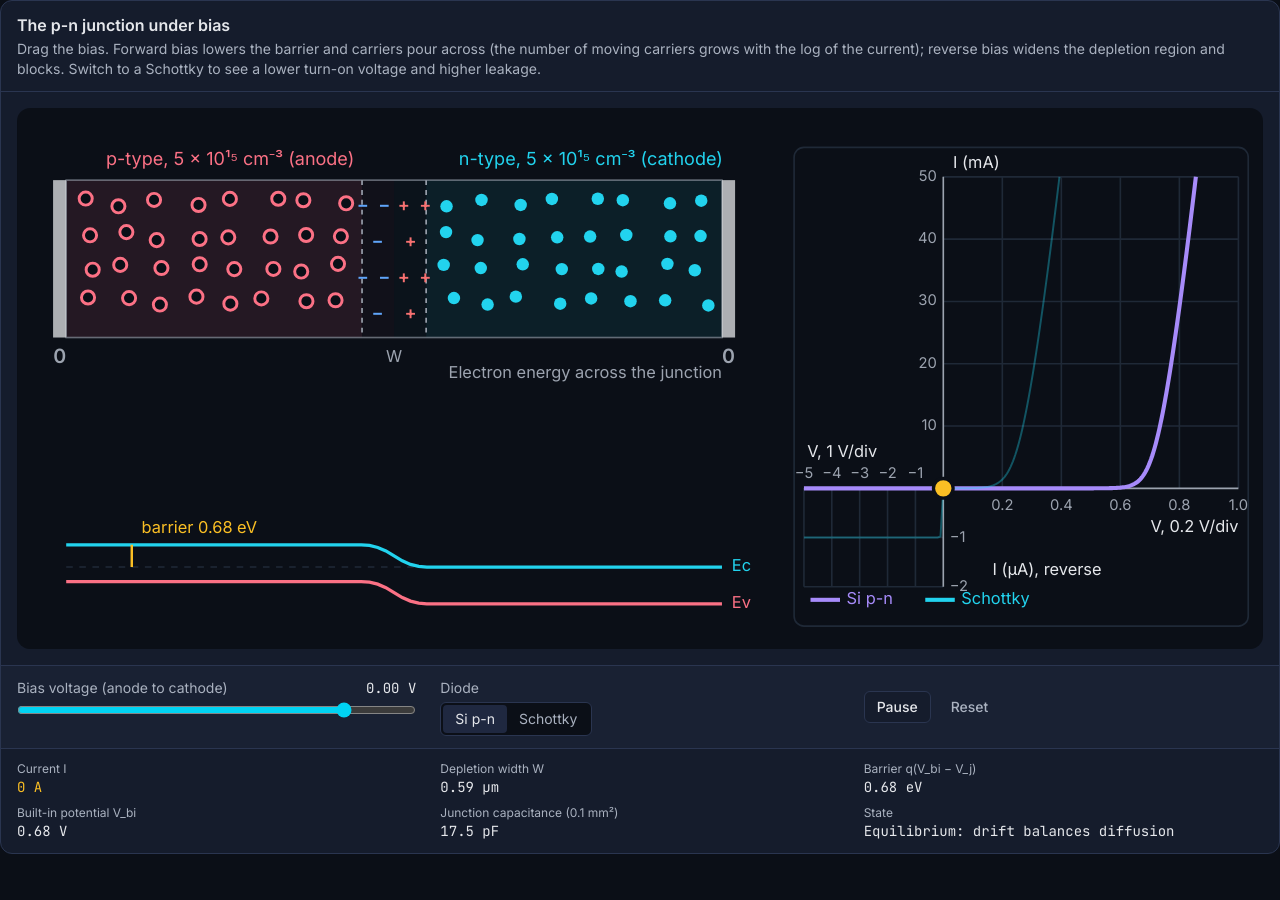
it: PNJunction › updates current, depletion width and state with bias and diode type
Check: the text "0 A" is shown, box 17,778 -> 42,796
Check: the text "0.59 µm" is shown, box 440,778 -> 499,796
Set the slider labelled "Bias voltage (anode to cathode) 0.00 V" to "-5" at (25, 710), box 17,702 -> 416,718
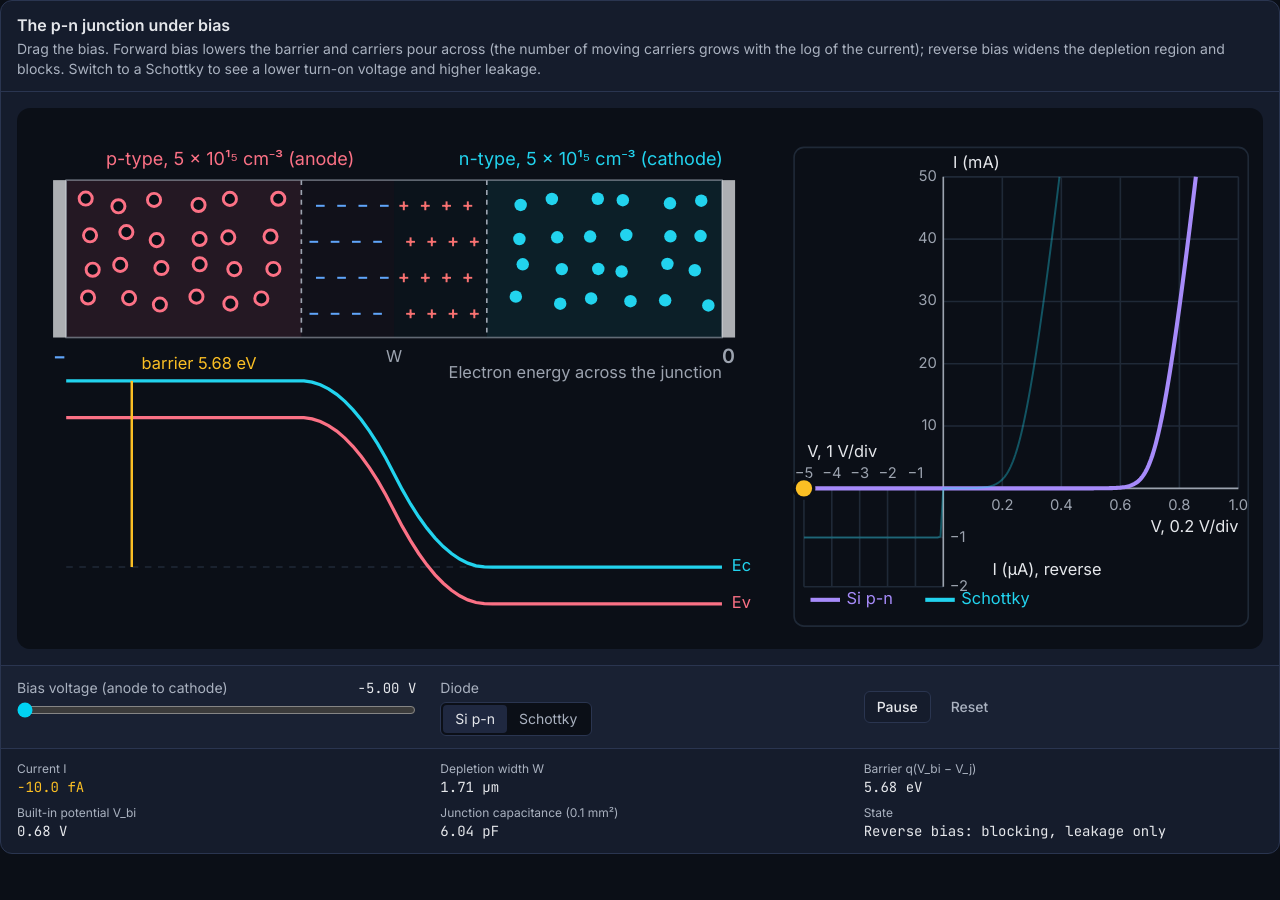
Check: the text "1.71 µm" is shown, box 440,778 -> 499,796
Check: the text "Reverse bias: blocking, leakage only" is shown, box 864,822 -> 1166,840
Set the slider labelled "Bias voltage (anode to cathode) -5.00 V" to "0.3" at (364, 710), box 17,702 -> 416,718
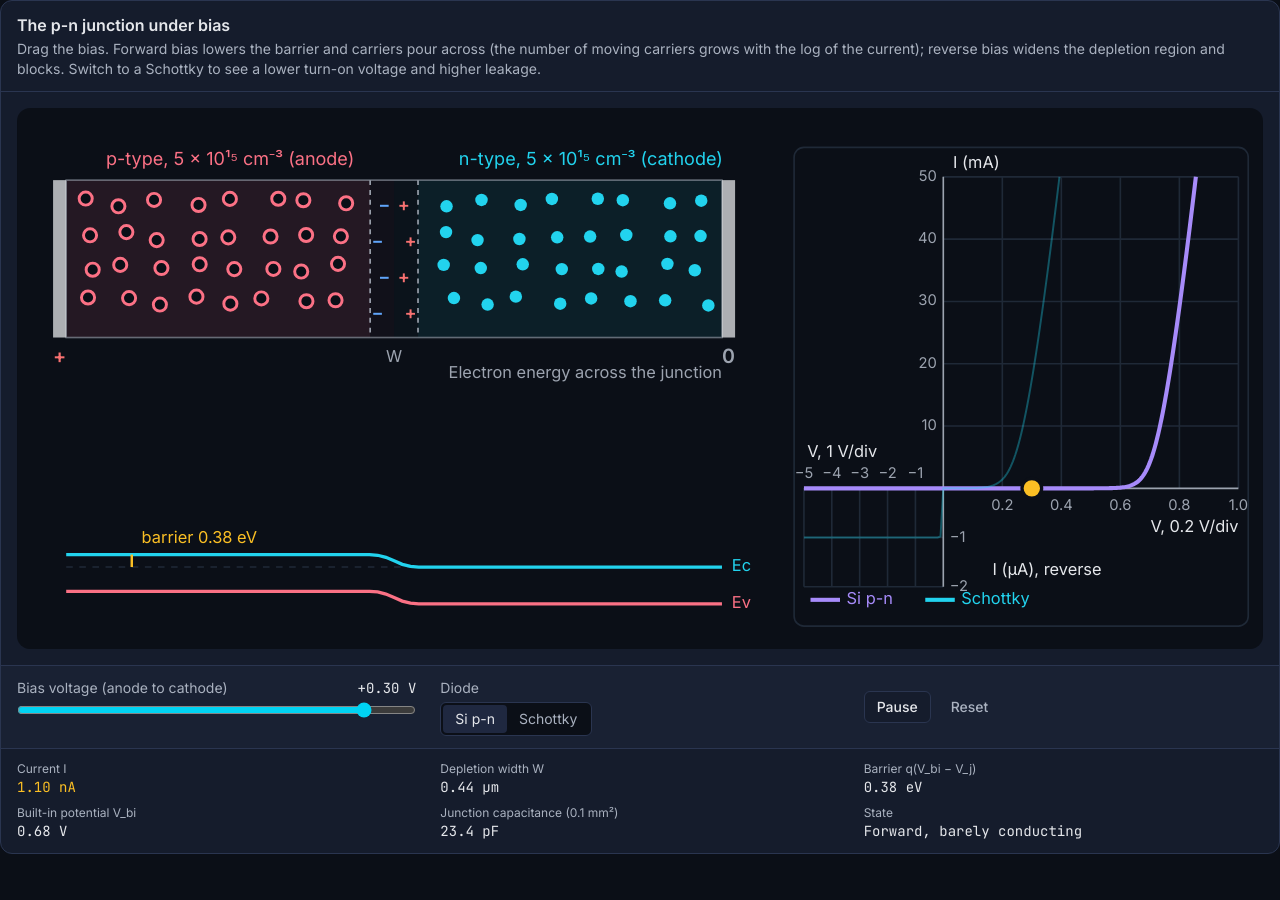
Check: the text "1.10 nA" is shown, box 17,778 -> 76,796
Click the radio button labelled "Schottky".
click(548, 719)  # box 507,705 -> 589,733
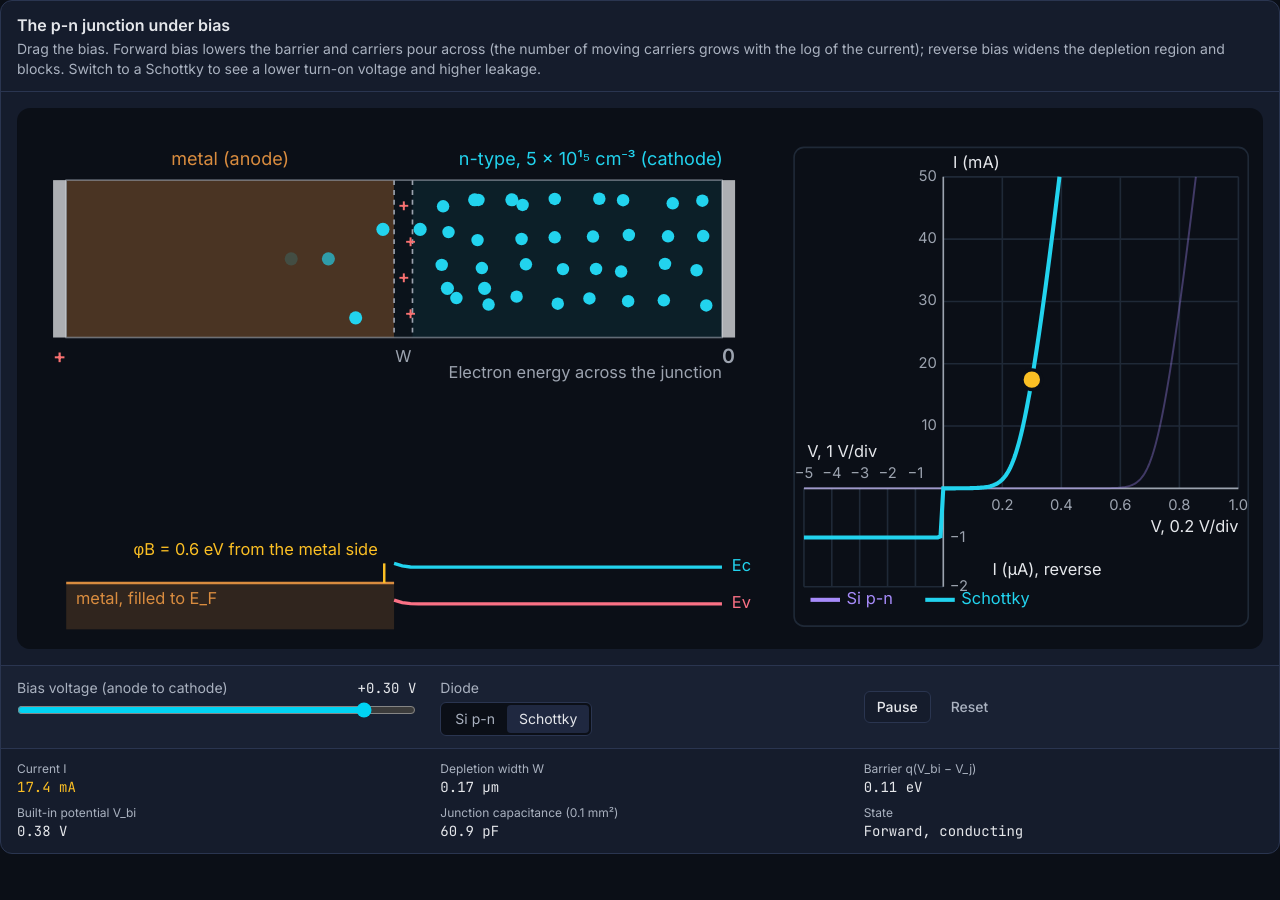
Check: the text "17.4 mA" is shown, box 17,778 -> 76,796
